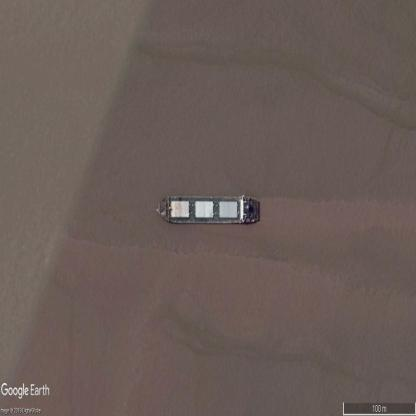ship: (156, 194, 260, 226)
